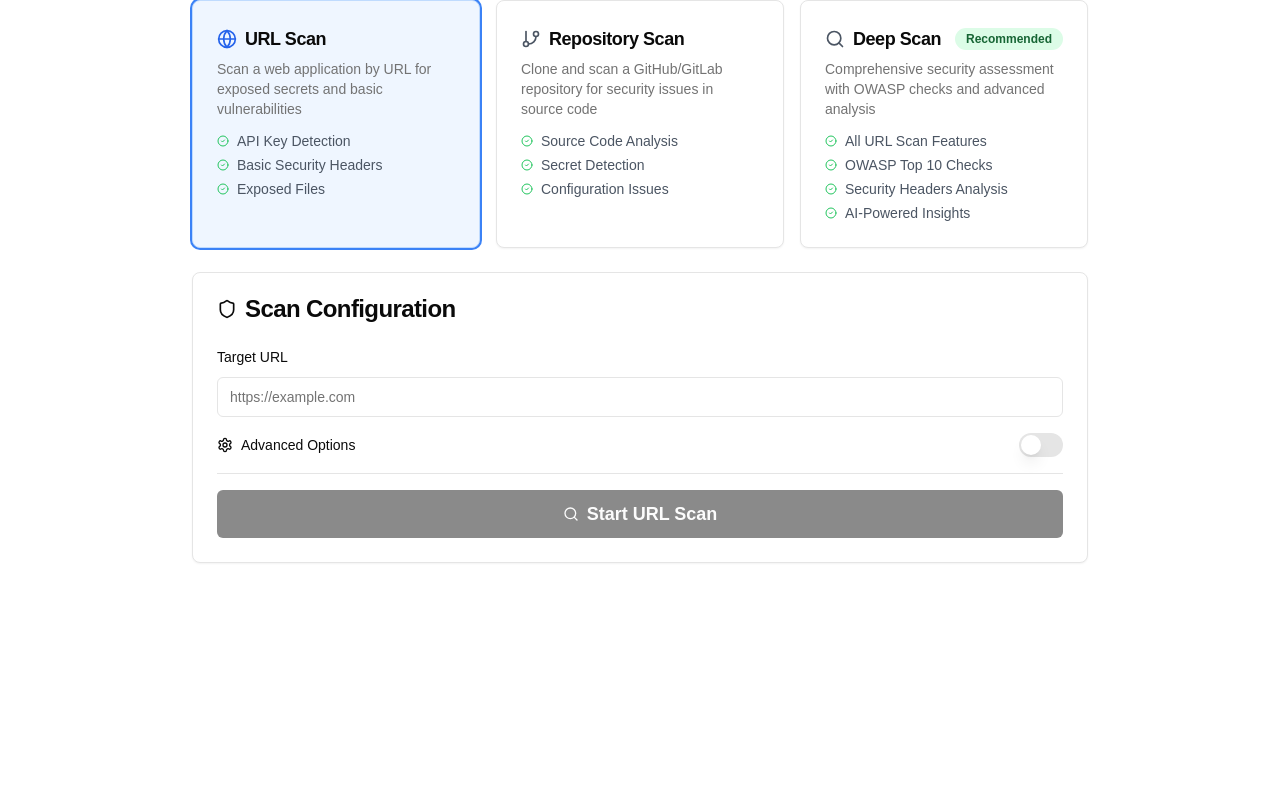
ScanTypeSelector › shows advanced options when toggled
Expected: the text "Detection Types" is not shown
What coordinates should you click on to do the following:
click the switch named "advanced options"
I would click on:
 (1041, 445)
Its box is left=1019, top=433, right=1063, bottom=457.
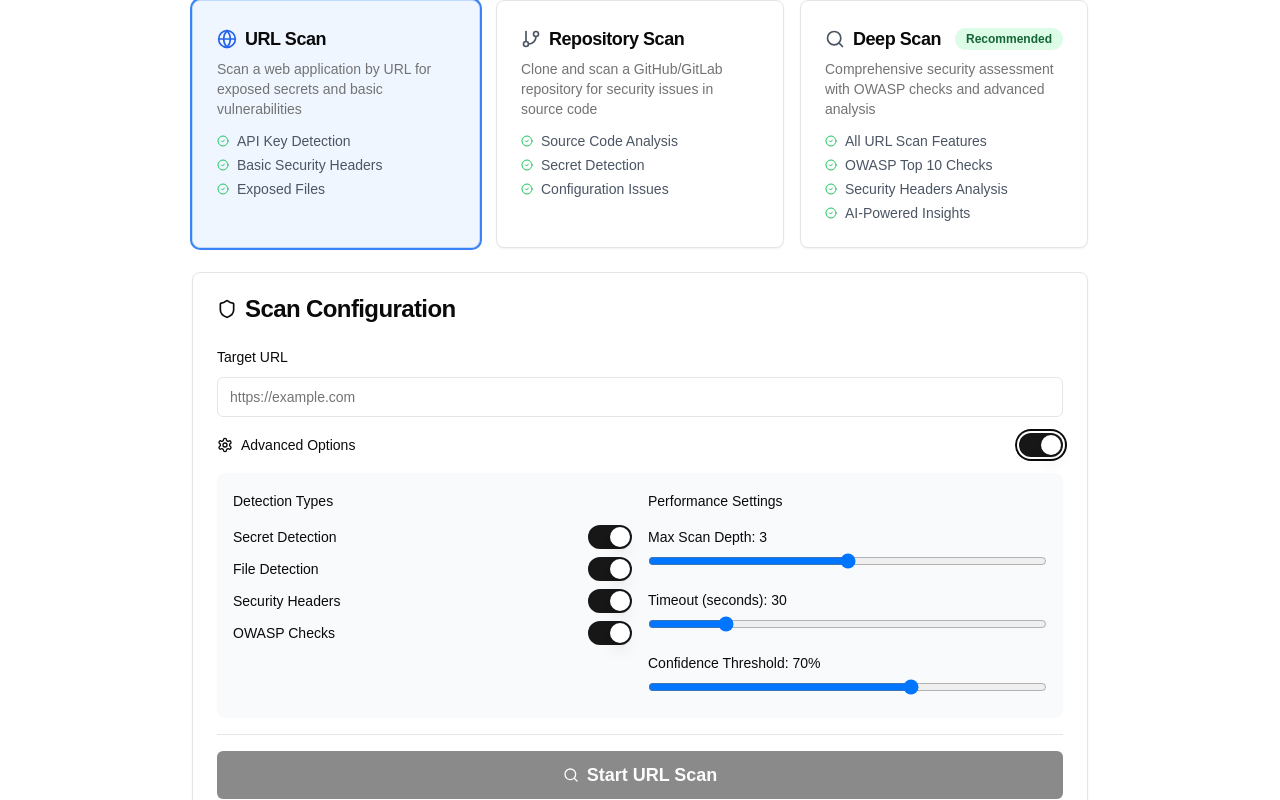
Result: the text "Detection Types" is shown at left=233, top=493, right=333, bottom=509
Result: the text "Performance Settings" is shown at left=648, top=493, right=783, bottom=509
Result: the 2nd switch named "Secret Detection" is shown at left=588, top=525, right=632, bottom=549
